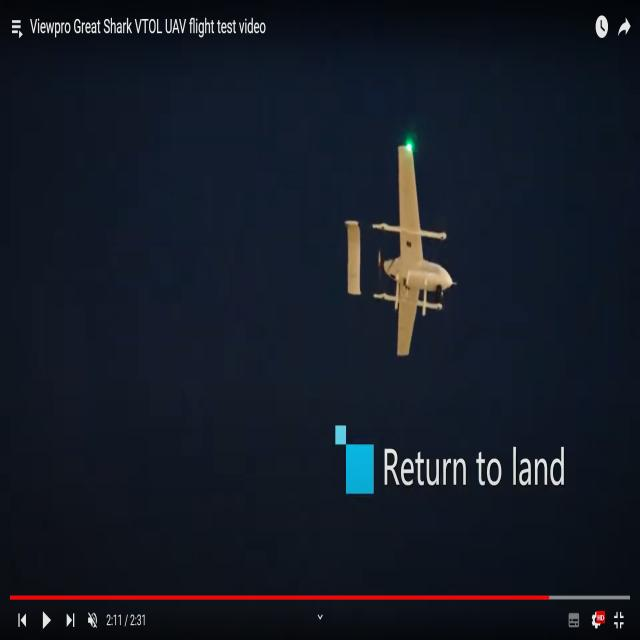iha: (375, 143, 425, 359)
